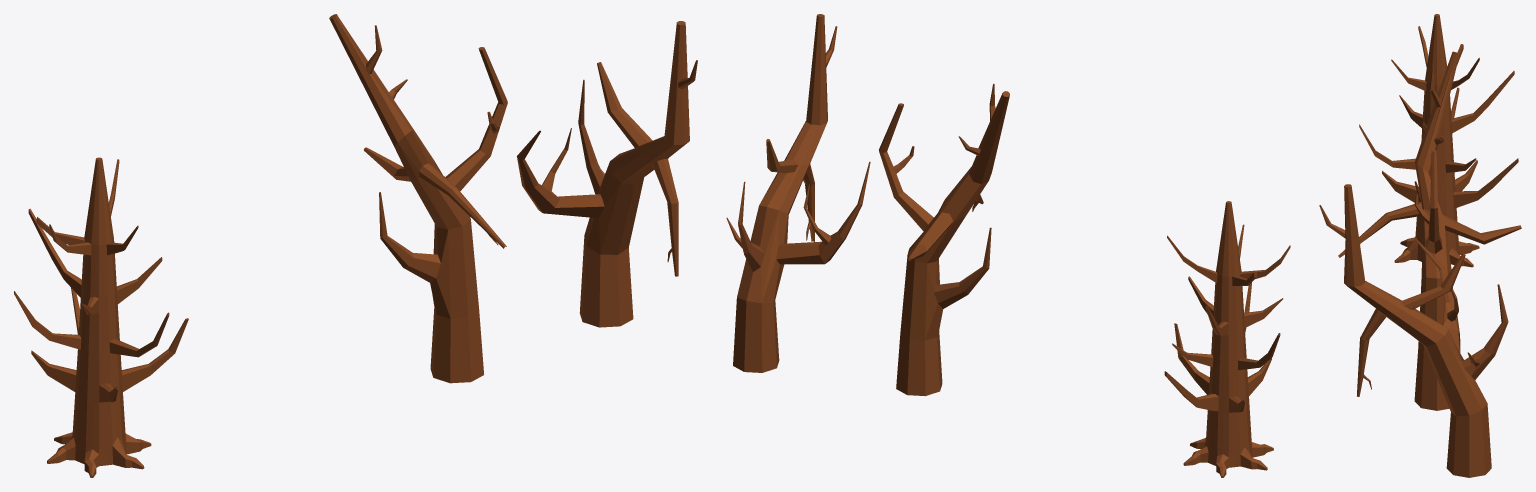
The model's file is Arvores.fbx.
3 renders of one model, left to right at view 1: azimuth 30°, elevation 25°; view 2: azimuth 150°, elevation 25°; view 3: azimuth 270°, elevation 25°, orthographic. The views are drawn at different scales.
Visible parts, largest first — view 1: Circle.002, Circle, Circle.001; view 2: Circle.001, Circle.002, Circle; view 3: Circle.001, Circle, Circle.002.
Part boxes in pixels (box(x1,y1,x2,y2)): Circle.002: box(14, 157, 188, 477); Circle: box(329, 14, 507, 383); Circle.001: box(517, 21, 697, 327); Circle.001: box(726, 14, 870, 372); Circle.002: box(1164, 201, 1290, 477); Circle: box(879, 83, 1009, 396); Circle.001: box(1319, 184, 1508, 477); Circle: box(1338, 51, 1521, 410); Circle.002: box(1359, 14, 1518, 267).
Bounding box in the file's own units: 2636 × 1494 × 896.
